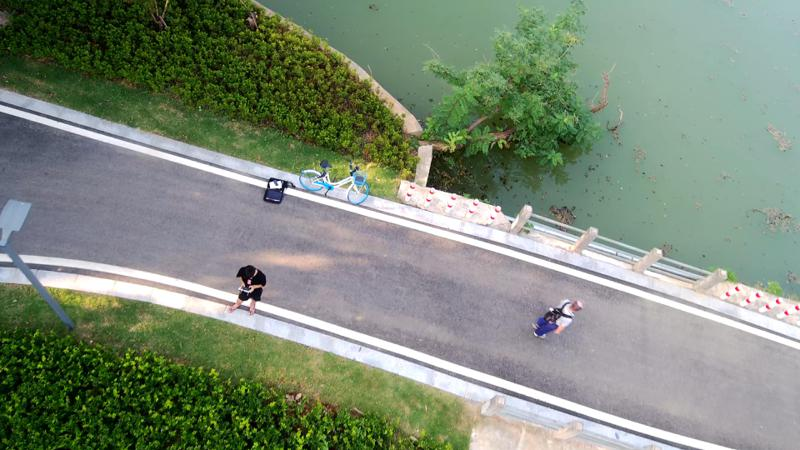passerby: (529, 296, 585, 340), (225, 264, 267, 317)
